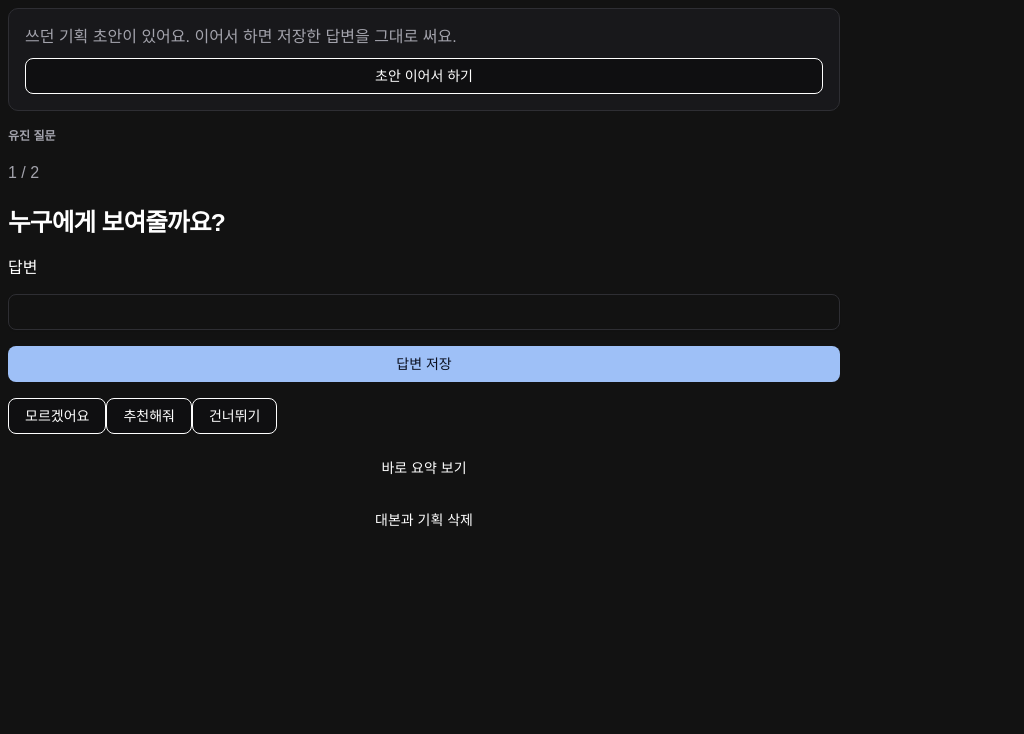
Scenario: CreationInterview › confirms deletion of retained creator input then clears the resumable interview
Expected: the heading "누구에게 보여줄까요?" is shown, [8,209,225,236]
Step 1. Click the button "대본과 기획 삭제" → (424, 520), box [8,502,840,538]
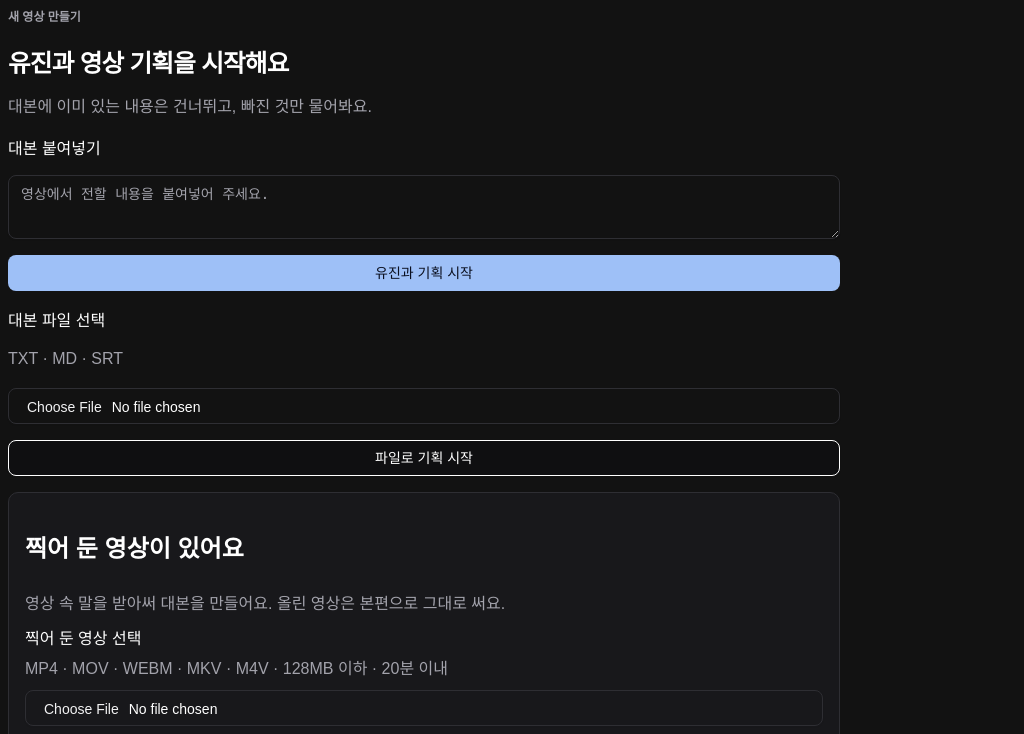
Now the heading "유진과 영상 기획을 시작해요" is shown, box [8,50,289,77]
